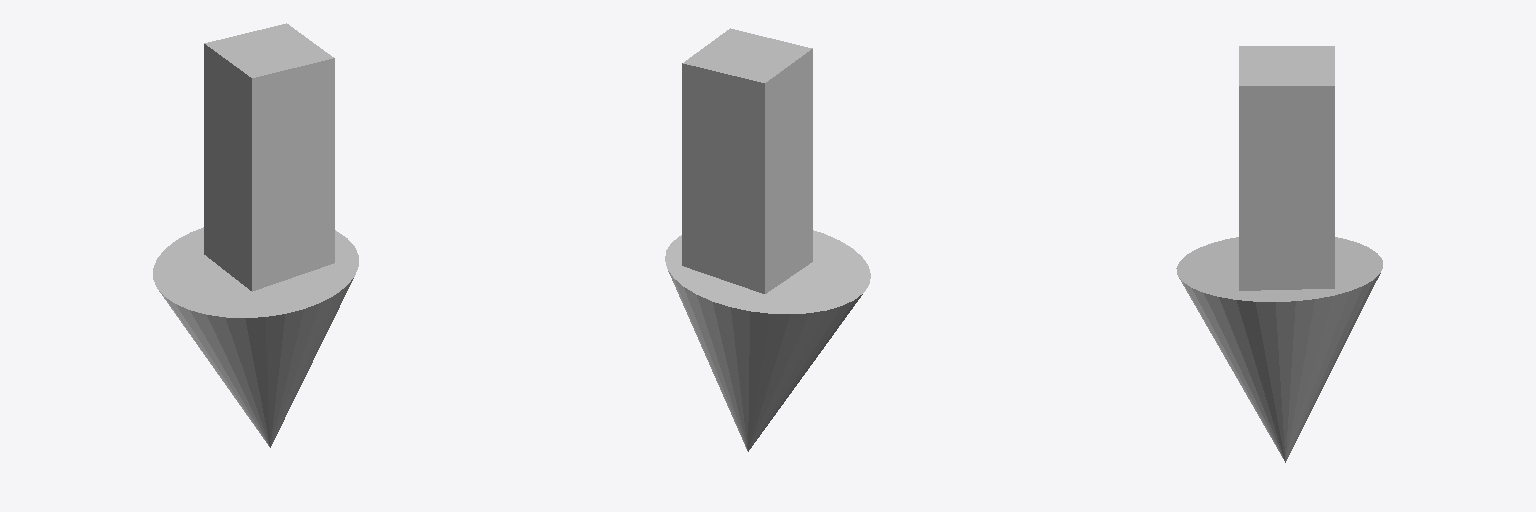
File: Arrow.obj
The picture shows the model from 3 angles: view 1: azimuth 30°, elevation 25°; view 2: azimuth 150°, elevation 25°; view 3: azimuth 270°, elevation 25°; orthographic projection.
Parts seen in each view (by area): view 1: Cube.001_Cube.002, Cone; view 2: Cube.001_Cube.002, Cone; view 3: Cube.001_Cube.002, Cone.
Boxes of the visible parts, x1,y1,x2,y2 form: Cube.001_Cube.002: [204, 23, 334, 291]; Cone: [153, 227, 358, 447]; Cube.001_Cube.002: [682, 28, 812, 293]; Cone: [665, 230, 870, 451]; Cube.001_Cube.002: [1239, 46, 1334, 290]; Cone: [1176, 237, 1382, 462].
Bounding box in the file's own units: 4.33 × 9.19 × 4.34.